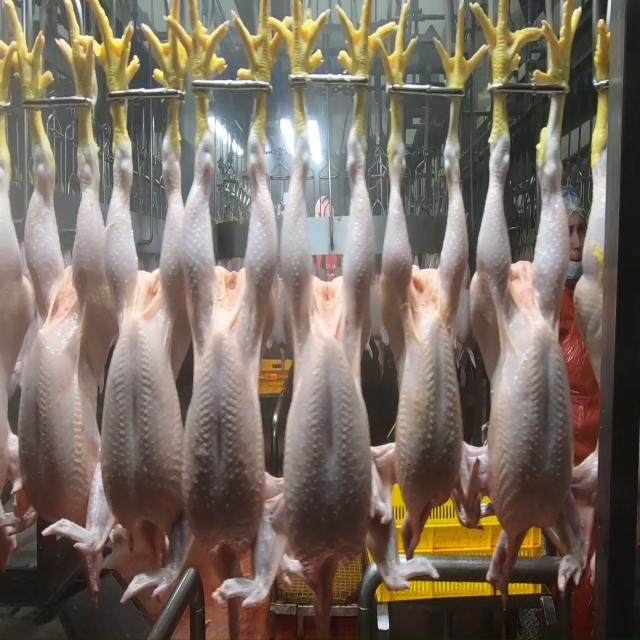chicken: (475, 100, 583, 544), (275, 116, 378, 567), (182, 113, 277, 554), (18, 122, 112, 539), (104, 120, 194, 535), (378, 133, 462, 514)
